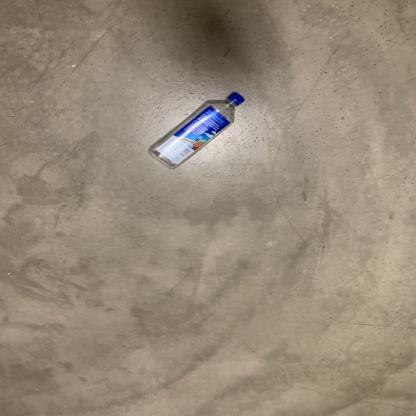trash: (145, 91, 247, 175)
